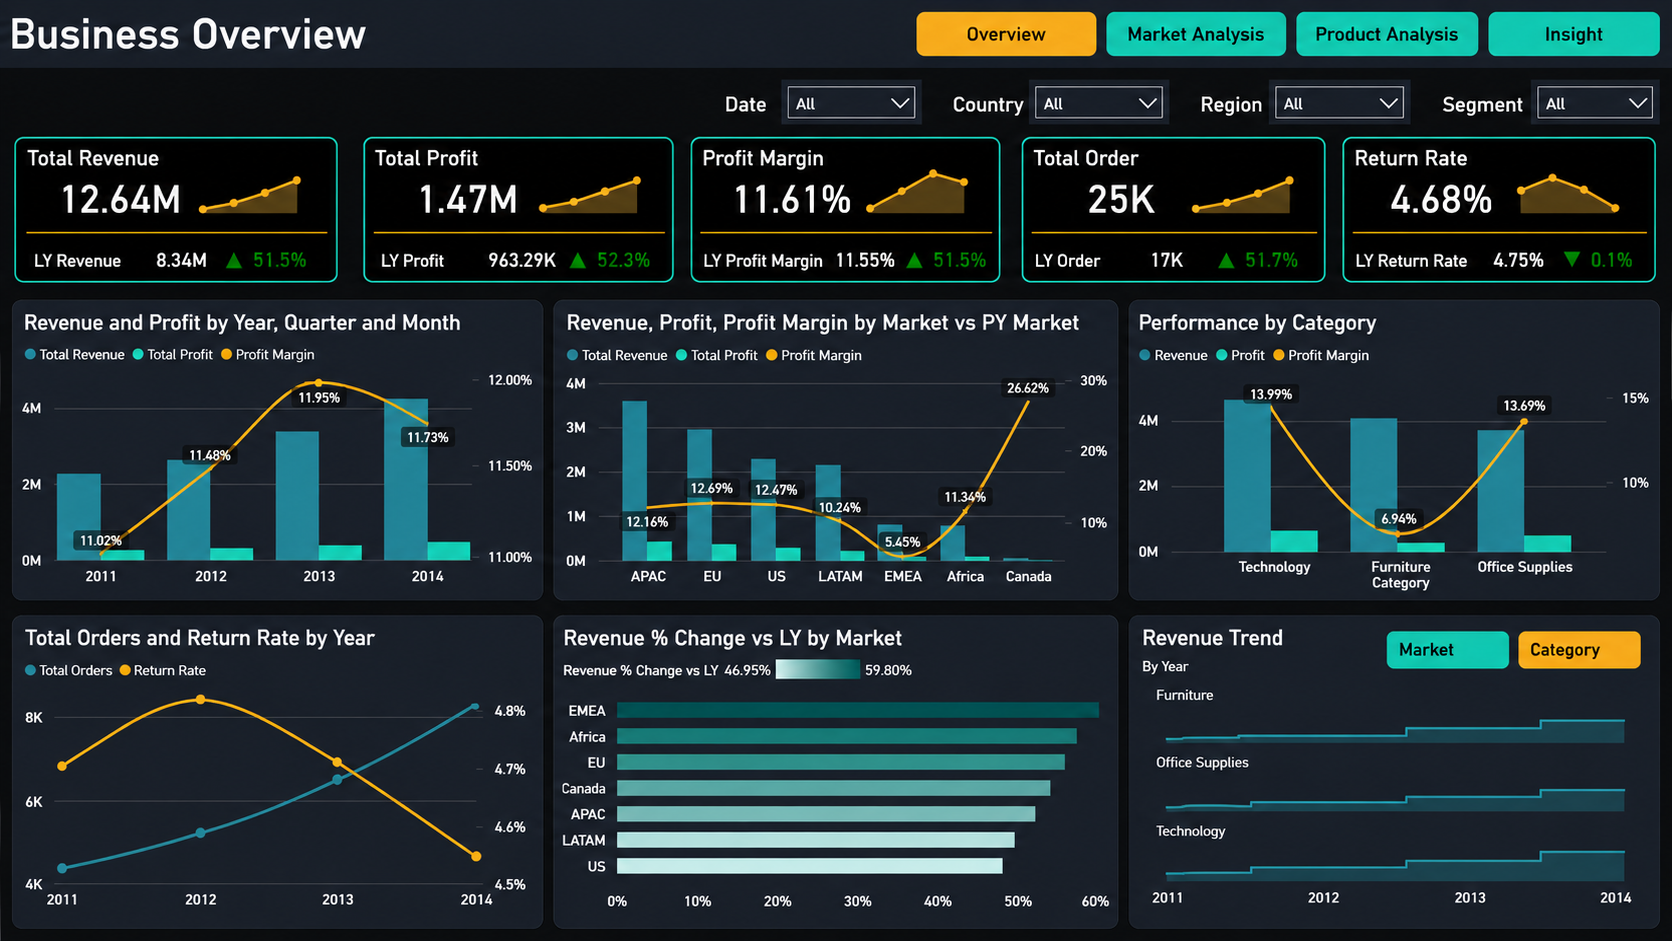

This screenshot's page, from the dashboard's own definition file:
{"tool":"powerbi","page":{"name":"Overview","canvas":[1920,1080],"ordinal":0},"visuals":[{"type":"shape","box":[1677.8,103.2,219.1,52.2],"z":0,"group":"g10"},{"type":"group","id":"g1","title":"Group 1","box":[976.8,105,212.9,52.2],"z":0,"group":"g17"},{"type":"shape","box":[1444,105.3,219.1,52.2],"z":0,"group":"g7"},{"type":"shape","box":[1208.2,105.4,219,52],"z":0,"group":"g4"},{"type":"shape","box":[976.8,105.5,212.9,51.7],"z":0,"group":"g1"},{"type":"group","id":"g2","title":"Group 1","box":[17.2,176.7,352.7,161.1],"z":0,"group":"g16"},{"type":"shape","box":[17.2,176.7,352.7,161.1],"z":0,"group":"g2"},{"type":"shape","box":[398.6,176.7,352.7,161.1],"z":0,"group":"g5"},{"type":"shape","box":[782.2,176.7,352.7,161.1],"z":0,"group":"g8"},{"type":"shape","box":[1165.8,176.7,352.7,161.1],"z":0,"group":"g11"},{"type":"shape","box":[1547.2,176.7,352.7,161.1],"z":0,"group":"g13"},{"type":"shape","box":[16.3,361.9,593.3,335.6],"z":0,"group":"g14"},{"type":"shape","box":[626.1,361.9,686.7,335.6],"z":0,"group":"g15"},{"type":"shape","box":[21.7,714.8,584.5,338.4],"z":0,"group":"g9"},{"type":"group","id":"g3","title":"Group 10","box":[1331.9,714.8,570,340.2],"z":0},{"type":"slicer","fields":{"Values":["Orders.Segment"]},"box":[1773,103.9,122.2,46],"z":1000,"group":"g10"},{"type":"slicer","fields":{"Values":["Orders.Order Date.Variation.Date Hierarchy.Year","Orders.Order Date.Variation.Date Hierarchy.Quarter","Orders.Order Date.Variation.Date Hierarchy.Month"]},"box":[1052.4,105,117.6,48.6],"z":1000,"group":"g1"},{"type":"group","id":"g4","title":"Group 2","box":[1208.2,105.3,219,52.1],"z":1000,"group":"g17"},{"type":"slicer","fields":{"Values":["Orders.Country"]},"box":[1302.7,105.3,122.2,46],"z":1000,"group":"g4"},{"type":"slicer","fields":{"Values":["Orders.Region"]},"box":[1539.2,106,122.2,46],"z":1000,"group":"g7"},{"type":"group","id":"g5","title":"Group 2","box":[398.6,176.7,352.7,161.1],"z":1000,"group":"g16"},{"type":"card","fields":{"Values":["Measure.Revenue Detail String"]},"box":[1003.4,297.7,120.3,29.6],"z":1000,"group":"g8"},{"type":"card","fields":{"Values":["Measure.Return Rate Detail String"]},"box":[1768.4,297.7,120.3,29.6],"z":1000,"group":"g13"},{"type":"card","fields":{"Values":["Measure.Revenue Detail String"]},"box":[222.6,298.7,121.2,28.9],"z":1000,"group":"g2"},{"type":"card","fields":{"Values":["Measure.Profit Detail String"]},"box":[604,298.7,121.2,28.9],"z":1000,"group":"g5"},{"type":"card","fields":{"Values":["Measure.Orders Detail String"]},"box":[1371.2,298.7,121.2,28.9],"z":1000,"group":"g11"},{"type":"lineClusteredColumnComboChart","title":"Revenue, Profit, Profit Margin by Market vs PY Market","fields":{"Category":["Orders.Market"],"Y":["Measure.Total Revenue","Measure.Total Profit"],"Y2":["Measure.Profit Margin"]},"box":[634.9,362.2,681.4,335.1],"z":1000,"group":"g15"},{"type":"lineClusteredColumnComboChart","title":"Revenue and Profit by Year, Quarter and Month","fields":{"Category":["Orders.Order Date.Variation.Date Hierarchy.Year"],"Y":["Measure.Total Revenue","Measure.Total Profit"],"Y2":["Measure.Profit Margin"]},"box":[28.5,367.4,584.4,335.6],"z":1000,"group":"g14"},{"type":"group","id":"g6","title":"Group 9","box":[626.1,714.8,685.9,340.2],"z":1000},{"type":"lineChart","fields":{"Y":["Measure.Total Orders"],"Category":["Orders.Order Date.Variation.Date Hierarchy.Year"],"Y2":["Measure.Return Rate"]},"box":[34.9,718.9,573.7,336.6],"z":1000,"group":"g9"},{"type":"group","id":"g7","title":"Group 3","box":[1444,105.3,219.1,54.3],"z":2000,"group":"g17"},{"type":"textbox","box":[1001.7,113.4,70.6,41.1],"z":2000,"group":"g1"},{"type":"textbox","box":[1222.4,113.9,97.7,36.2],"z":2000,"group":"g4"},{"type":"textbox","box":[1692.4,116.7,99.1,40],"z":2000,"group":"g10"},{"type":"textbox","box":[1458.6,118.8,99.1,40],"z":2000,"group":"g7"},{"type":"group","id":"g8","title":"Group 3","box":[782.2,176.7,351.2,162],"z":2000,"group":"g16"},{"type":"textbox","box":[792.4,297.7,151.8,38.3],"z":2000,"group":"g8"},{"type":"textbox","box":[1557.4,297.7,151.8,38.3],"z":2000,"group":"g13"},{"type":"textbox","box":[31.8,298.5,146.1,37.5],"z":2000,"group":"g2"},{"type":"textbox","box":[413.2,298.5,146.1,37.5],"z":2000,"group":"g5"},{"type":"textbox","box":[1180.4,298.5,146.1,37.5],"z":2000,"group":"g11"},{"type":"group","id":"g9","title":"Group 8","box":[21.7,714.8,586.3,340.2],"z":2000},{"type":"shape","box":[626.1,714.8,685.6,339.6],"z":2250,"group":"g6"},{"type":"shape","box":[1331.9,714.8,569.7,340.2],"z":2500,"group":"g3"},{"type":"group","id":"g10","title":"Group 4","box":[1677.8,103.2,219.1,54.3],"z":3000,"group":"g17"},{"type":"group","id":"g11","title":"Group 4","box":[1165.8,176.7,353.4,162],"z":3000,"group":"g16"},{"type":"card","fields":{"Values":["Measure.Total Revenue"]},"box":[31.8,214.2,202.4,56.2],"z":3000,"group":"g2"},{"type":"card","fields":{"Values":["Measure.Total Profit"]},"box":[413.2,214.2,202.4,56.2],"z":3000,"group":"g5"},{"type":"card","fields":{"Values":["Measure.Profit Margin"]},"box":[796.8,214.2,202.4,56.2],"z":3000,"group":"g8"},{"type":"card","fields":{"Values":["Measure.Total Orders"]},"box":[1180.4,214.2,202.4,56.2],"z":3000,"group":"g11"},{"type":"card","fields":{"Values":["Measure.Return Rate"]},"box":[1561.8,214.2,202.4,56.2],"z":3000,"group":"g13"},{"type":"group","id":"g12","title":"Group 7","box":[1330.1,361.9,570,334.8],"z":3000},{"type":"barChart","fields":{"Category":["Orders.Market"],"Y":["Measure.Revenue % Change vs PY"]},"box":[636.2,719.4,671.2,333.9],"z":3000,"group":"g6"},{"type":"group","id":"g13","title":"Group 5","box":[1547.2,176.7,353.4,160],"z":4000,"group":"g16"},{"type":"textbox","box":[25.5,179.8,204.5,43.1],"z":4000,"group":"g2"},{"type":"textbox","box":[406.9,179.8,204.5,43.1],"z":4000,"group":"g5"},{"type":"textbox","box":[790.5,179.8,204.5,43.1],"z":4000,"group":"g8"},{"type":"textbox","box":[1174.1,179.8,204.5,43.1],"z":4000,"group":"g11"},{"type":"textbox","box":[1555.5,179.8,204.5,43.1],"z":4000,"group":"g13"},{"type":"group","id":"g14","title":"Group 5","box":[16.3,361.9,597.2,342],"z":4000},{"type":"lineClusteredColumnComboChart","title":"Orders, Customer and Return Rate by Category","fields":{"Category":["Orders.Category"],"Y":["Measure.Total Orders","Measure.Total Customer"],"Y2":["Measure.Return Rate"]},"box":[1337.4,715.3,563.3,340.2],"z":4000,"group":"g3"},{"type":"card","fields":{"Values":["Measure.LY Order"]},"box":[1274.8,296,116.4,30.4],"z":5000,"group":"g11"},{"type":"card","fields":{"Values":["Measure.LY Profit Margin"]},"box":[923.8,297.7,116.6,29.6],"z":5000,"group":"g8"},{"type":"card","fields":{"Values":["Measure.LY Return Rate"]},"box":[1688.8,297.7,116.6,29.6],"z":5000,"group":"g13"},{"type":"card","fields":{"Values":["Measure.LY Profit"]},"box":[516.8,298.1,117.6,31.1],"z":5000,"group":"g5"},{"type":"card","fields":{"Values":["Measure.Revenue PY"]},"box":[138,299.8,117.6,31.1],"z":5000,"group":"g2"},{"type":"group","id":"g15","title":"Group 6","box":[626.1,361.9,693.1,334.8],"z":5000},{"type":"shape","box":[1330.1,361.9,567.7,333.9],"z":5500,"group":"g12"},{"type":"shape","box":[0,0,1920,85.6],"z":6000},{"type":"shape","box":[31.8,266.6,323.5,31.9],"z":6000,"group":"g2"},{"type":"shape","box":[413.2,266.6,323.5,31.9],"z":6000,"group":"g5"},{"type":"shape","box":[796.8,266.6,323.5,31.9],"z":6000,"group":"g8"},{"type":"shape","box":[1180.4,266.6,323.5,31.9],"z":6000,"group":"g11"},{"type":"shape","box":[1561.8,266.6,323.5,31.9],"z":6000,"group":"g13"},{"type":"lineClusteredColumnComboChart","title":"Performance by Category","fields":{"Category":["Orders.Category"],"Y":["Measure.Total Revenue","Measure.Total Profit"],"Y2":["Measure.Profit Margin"]},"box":[1339.1,365.5,560,332],"z":6000,"group":"g12"},{"type":"group","id":"g16","title":"Score Card Layer","box":[17.2,176.7,1883.4,162],"z":7000},{"type":"lineChart","fields":{"Category":["Orders.Order Date.Variation.Date Hierarchy.Year"],"Y":["Measure.Total Revenue"]},"box":[202.9,199.2,135.7,67.5],"z":7000,"group":"g2"},{"type":"lineChart","fields":{"Category":["Orders.Order Date.Variation.Date Hierarchy.Year"],"Y":["Measure.Total Profit"]},"box":[584.3,199.2,135.7,67.5],"z":7000,"group":"g5"},{"type":"lineChart","fields":{"Category":["Orders.Order Date.Variation.Date Hierarchy.Year"],"Y":["Measure.Profit Margin"]},"box":[967.9,199.2,135.7,67.5],"z":7000,"group":"g8"},{"type":"lineChart","fields":{"Category":["Orders.Order Date.Variation.Date Hierarchy.Year"],"Y":["Measure.Total Orders"]},"box":[1351.5,199.2,135.7,67.5],"z":7000,"group":"g11"},{"type":"lineChart","fields":{"Category":["Orders.Order Date.Variation.Date Hierarchy.Year"],"Y":["Measure.Return Rate"]},"box":[1732.9,199.2,135.7,67.5],"z":7000,"group":"g13"},{"type":"group","id":"g17","title":"Filter Layer","box":[976.8,103.2,920.1,56.3],"z":8000},{"type":"pageNavigator","box":[1020.6,16.3,881.3,54.3],"z":9000},{"type":"textbox","box":[2.1,10.4,444.5,71],"z":10000}]}

Visuals, with their boxes in screenshot pixels (x1, y1, x2, y2), scaled from the page's 1920x1080 canvas onto the 1672x941 screenshot:
shape: box(1461, 90, 1652, 135)
"Group 1" group: box(851, 91, 1036, 137)
shape: box(1257, 92, 1448, 137)
shape: box(1052, 92, 1243, 137)
shape: box(851, 92, 1036, 137)
"Group 1" group: box(15, 154, 322, 294)
shape: box(15, 154, 322, 294)
shape: box(347, 154, 654, 294)
shape: box(681, 154, 988, 294)
shape: box(1015, 154, 1322, 294)
shape: box(1347, 154, 1654, 294)
shape: box(14, 315, 531, 608)
shape: box(545, 315, 1143, 608)
shape: box(19, 623, 528, 918)
"Group 10" group: box(1160, 623, 1656, 919)
slicer - Orders.Segment: box(1544, 91, 1650, 131)
slicer - Orders.Order Date.Variation.Date Hierarchy.Year x Orders.Order Date.Variation.Date Hierarchy.Quarter: box(916, 91, 1019, 134)
"Group 2" group: box(1052, 92, 1243, 137)
slicer - Orders.Country: box(1134, 92, 1241, 132)
slicer - Orders.Region: box(1340, 92, 1447, 132)
"Group 2" group: box(347, 154, 654, 294)
card - Measure.Revenue Detail String: box(874, 259, 979, 285)
card - Measure.Return Rate Detail String: box(1540, 259, 1645, 285)
card - Measure.Revenue Detail String: box(194, 260, 299, 285)
card - Measure.Profit Detail String: box(526, 260, 632, 285)
card - Measure.Orders Detail String: box(1194, 260, 1300, 285)
"Revenue, Profit, Profit Margin by Market vs PY Market" lineClusteredColumnComboChart: box(553, 316, 1146, 608)
"Revenue and Profit by Year, Quarter and Month" lineClusteredColumnComboChart: box(25, 320, 534, 613)
"Group 9" group: box(545, 623, 1143, 919)
lineChart - Measure.Total Orders x Orders.Order Date.Variation.Date Hierarchy.Year: box(30, 626, 530, 920)
"Group 3" group: box(1257, 92, 1448, 139)
textbox: box(872, 99, 934, 135)
textbox: box(1065, 99, 1150, 131)
textbox: box(1474, 102, 1560, 137)
textbox: box(1270, 104, 1356, 138)
"Group 3" group: box(681, 154, 987, 295)
textbox: box(690, 259, 822, 293)
textbox: box(1356, 259, 1488, 293)
textbox: box(28, 260, 155, 293)
textbox: box(360, 260, 487, 293)
textbox: box(1028, 260, 1155, 293)
"Group 8" group: box(19, 623, 529, 919)
shape: box(545, 623, 1142, 919)
shape: box(1160, 623, 1656, 919)
"Group 4" group: box(1461, 90, 1652, 137)
"Group 4" group: box(1015, 154, 1323, 295)
card - Measure.Total Revenue: box(28, 187, 204, 236)
card - Measure.Total Profit: box(360, 187, 536, 236)
card - Measure.Profit Margin: box(694, 187, 870, 236)
card - Measure.Total Orders: box(1028, 187, 1204, 236)
card - Measure.Return Rate: box(1360, 187, 1536, 236)
"Group 7" group: box(1158, 315, 1655, 607)
barChart - Orders.Market x Measure.Revenue % Change vs PY: box(554, 627, 1139, 918)
"Group 5" group: box(1347, 154, 1655, 293)
textbox: box(22, 157, 200, 194)
textbox: box(354, 157, 532, 194)
textbox: box(688, 157, 866, 194)
textbox: box(1022, 157, 1201, 194)
textbox: box(1355, 157, 1533, 194)
"Group 5" group: box(14, 315, 534, 613)
"Orders, Customer and Return Rate by Category" lineClusteredColumnComboChart: box(1165, 623, 1655, 920)
card - Measure.LY Order: box(1110, 258, 1212, 284)
card - Measure.LY Profit Margin: box(804, 259, 906, 285)
card - Measure.LY Return Rate: box(1471, 259, 1572, 285)
card - Measure.LY Profit: box(450, 260, 552, 287)
card - Measure.Revenue PY: box(120, 261, 223, 288)
"Group 6" group: box(545, 315, 1149, 607)
shape: box(1158, 315, 1653, 606)
shape: box(0, 0, 1671, 75)
shape: box(28, 232, 309, 260)
shape: box(360, 232, 642, 260)
shape: box(694, 232, 976, 260)
shape: box(1028, 232, 1310, 260)
shape: box(1360, 232, 1642, 260)
"Performance by Category" lineClusteredColumnComboChart: box(1166, 318, 1654, 608)
"Score Card Layer" group: box(15, 154, 1655, 295)
lineChart - Orders.Order Date.Variation.Date Hierarchy.Year x Measure.Total Revenue: box(177, 174, 295, 232)
lineChart - Orders.Order Date.Variation.Date Hierarchy.Year x Measure.Total Profit: box(509, 174, 627, 232)
lineChart - Orders.Order Date.Variation.Date Hierarchy.Year x Measure.Profit Margin: box(843, 174, 961, 232)
lineChart - Orders.Order Date.Variation.Date Hierarchy.Year x Measure.Total Orders: box(1177, 174, 1295, 232)
lineChart - Orders.Order Date.Variation.Date Hierarchy.Year x Measure.Return Rate: box(1509, 174, 1627, 232)
"Filter Layer" group: box(851, 90, 1652, 139)
pageNavigator: box(889, 14, 1656, 62)
textbox: box(2, 9, 389, 71)
